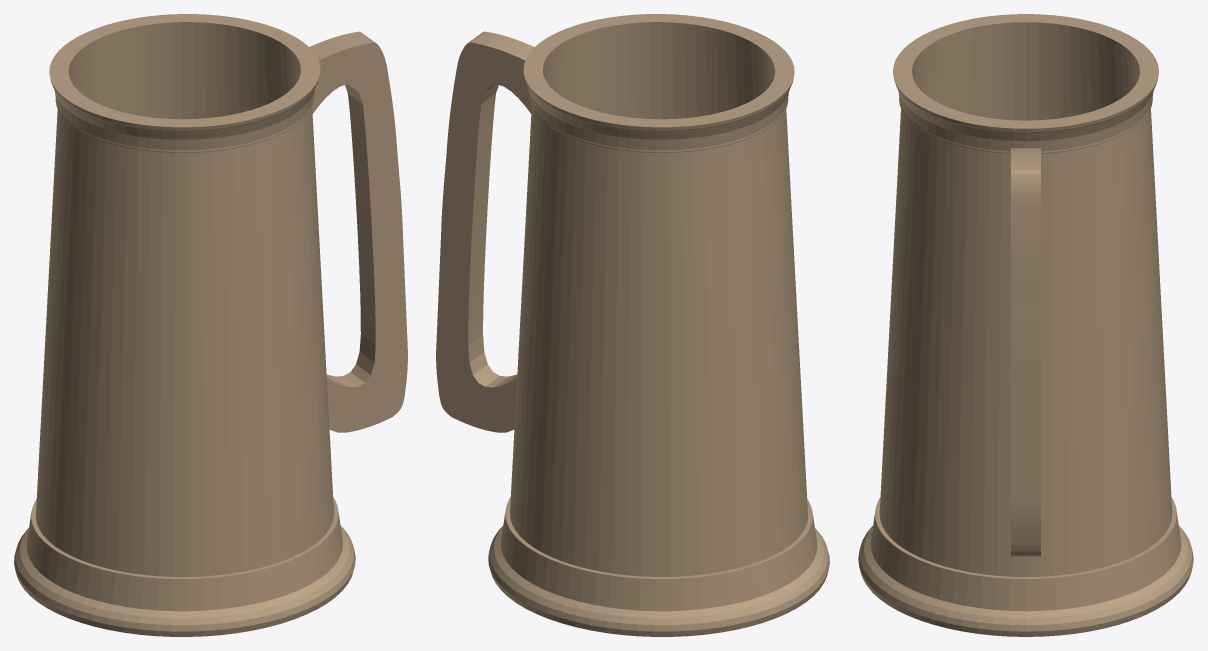
File: mug.glb
3 views of the same model, side by side, from view 1: azimuth 30°, elevation 25°; view 2: azimuth 150°, elevation 25°; view 3: azimuth 270°, elevation 25° (orthographic).
Parts seen in each view (by area): view 1: Mesh_Mesh_head_geo.001_lambert2SG.001; view 2: Mesh_Mesh_head_geo.001_lambert2SG.001; view 3: Mesh_Mesh_head_geo.001_lambert2SG.001.
Part boxes in pixels (x1,y1,x2,y2): Mesh_Mesh_head_geo.001_lambert2SG.001: [14, 14, 407, 636]; Mesh_Mesh_head_geo.001_lambert2SG.001: [436, 14, 829, 636]; Mesh_Mesh_head_geo.001_lambert2SG.001: [858, 14, 1193, 636].
Size of the model in its own units: 0.01 by 0.013 by 0.008.
